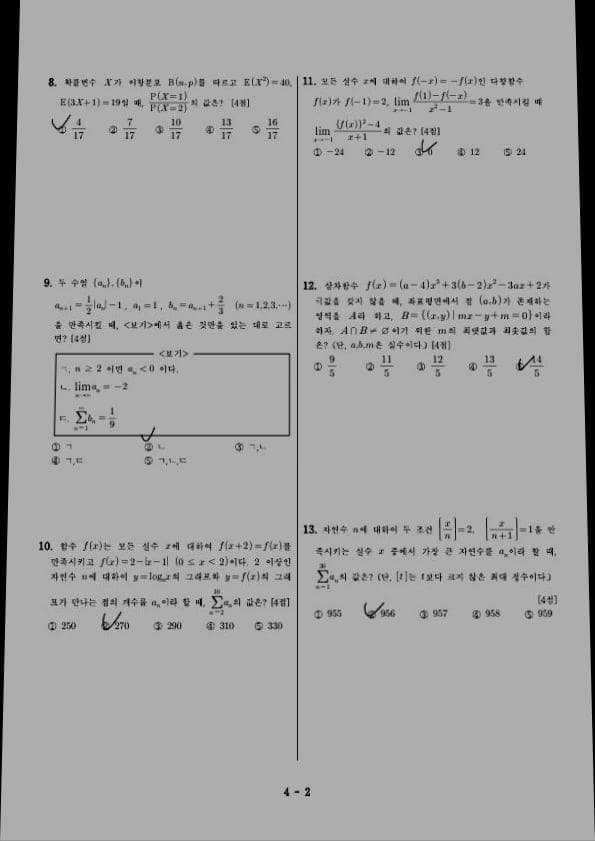question: (34, 270, 298, 474), (298, 507, 572, 633), (296, 272, 560, 391), (28, 535, 296, 644), (298, 68, 549, 175), (40, 67, 297, 152)
